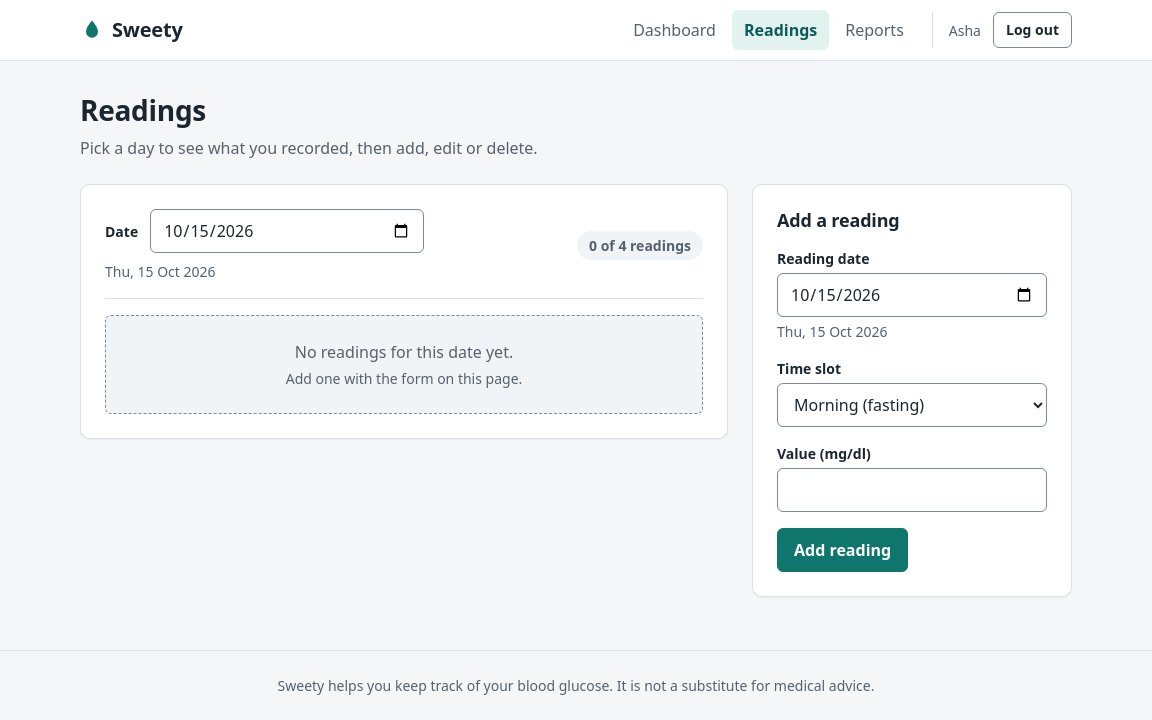
Test case: Add a reading form › saves to another date and switches the page to it
The width and height of the screenshot is (1152, 720).
Expected: the text "0 of 4 readings" is shown, [577, 231, 703, 260]
Type "2026-10-01" into the date field labelled "Reading date".
click(912, 294); type("2026-10-01")  # box [777, 272, 1047, 316]
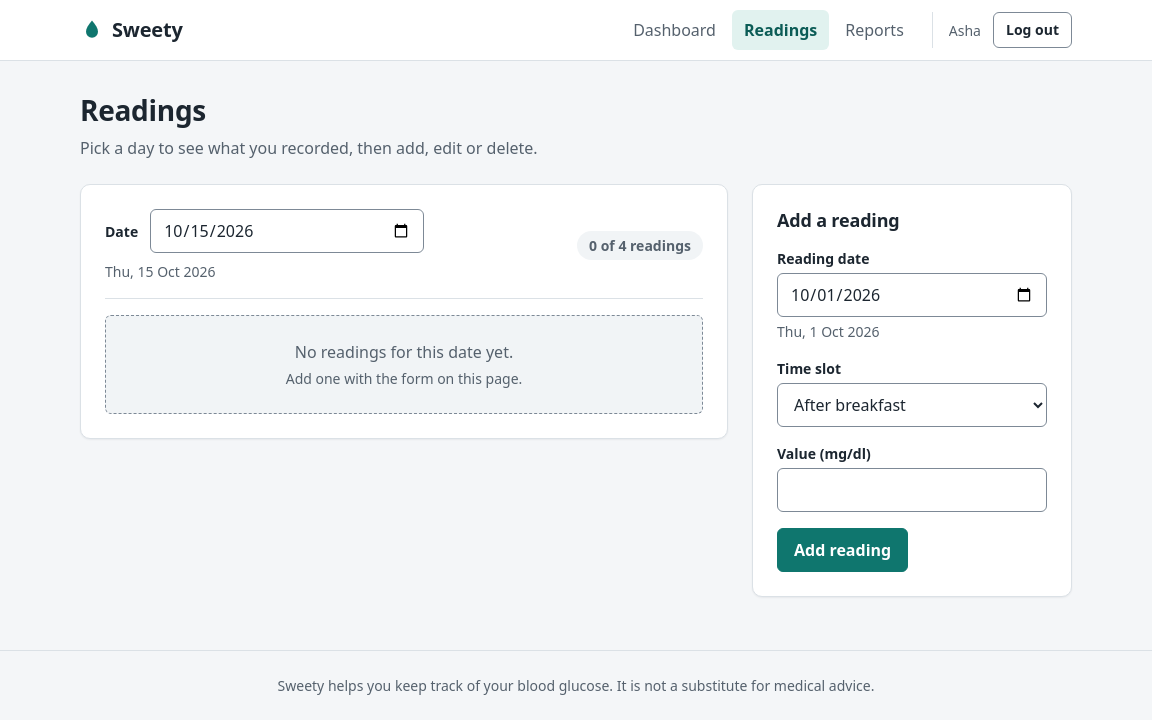
Expected: the date field labelled "Date" holds "2026-10-15", [150, 209, 424, 253]
Type "180" into the field labelled "Value (mg/dl)".
click(912, 490); type("180")  # box [777, 468, 1047, 512]
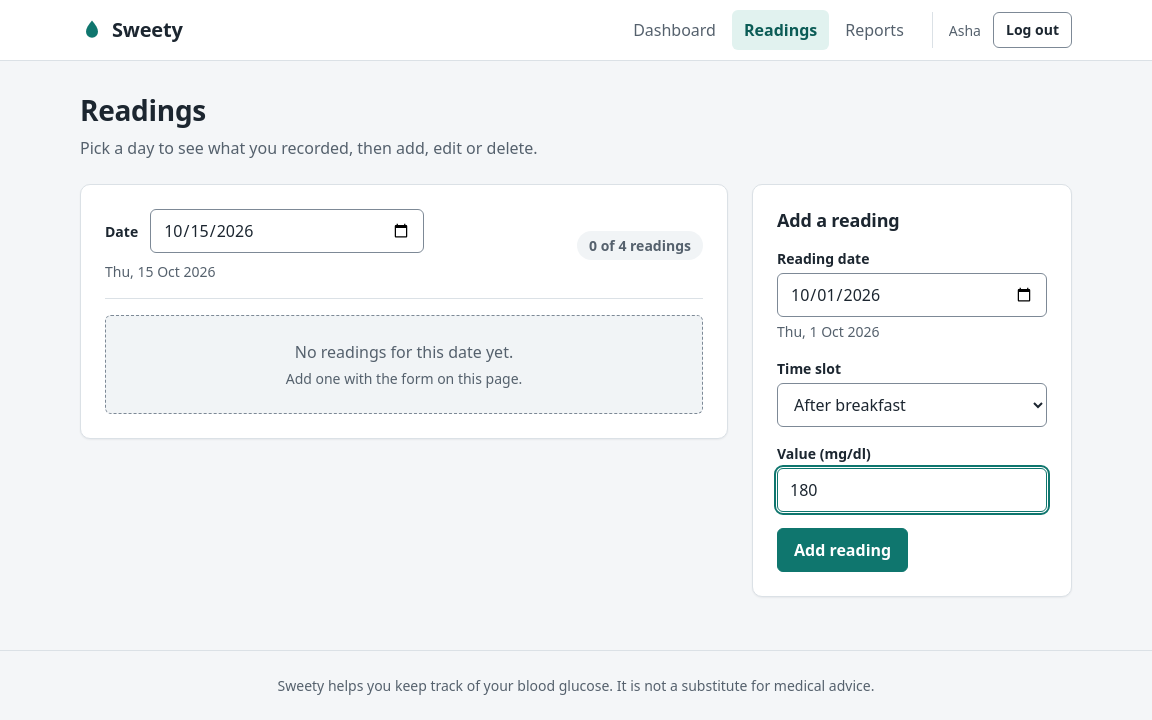
Click the button "Add reading".
click(843, 550)  # box [777, 528, 908, 572]
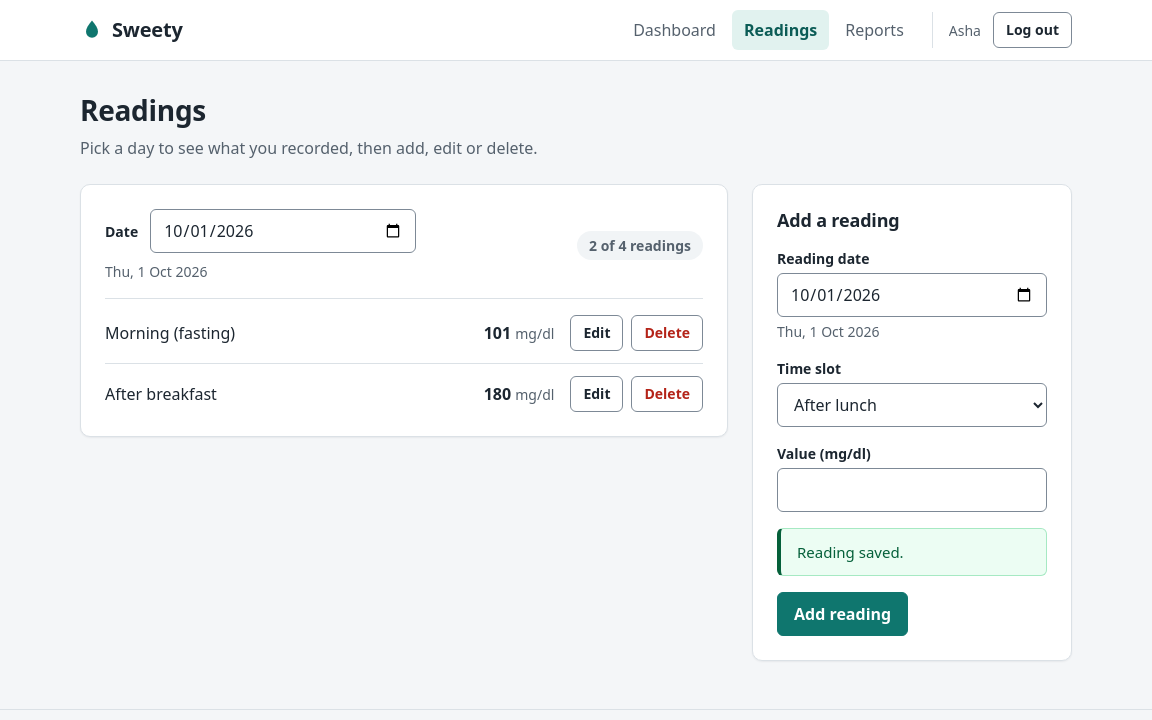
Now the text "2 of 4 readings" is shown, box [577, 231, 703, 260]
Now the date field labelled "Date" holds "2026-10-01", box [150, 209, 416, 253]
Now the text "Reading saved." is shown, box [777, 528, 1047, 576]
